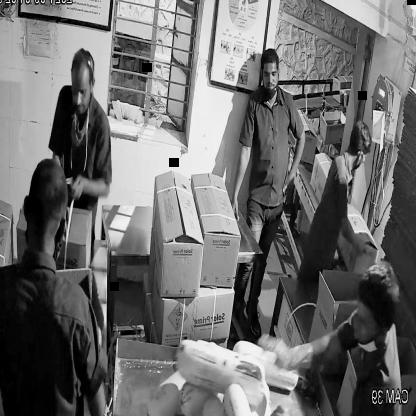no_goggles: (69, 74, 97, 102), (257, 66, 283, 86)
